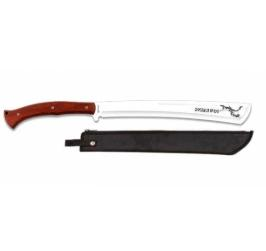MACHETTE: (4, 97, 254, 129)
